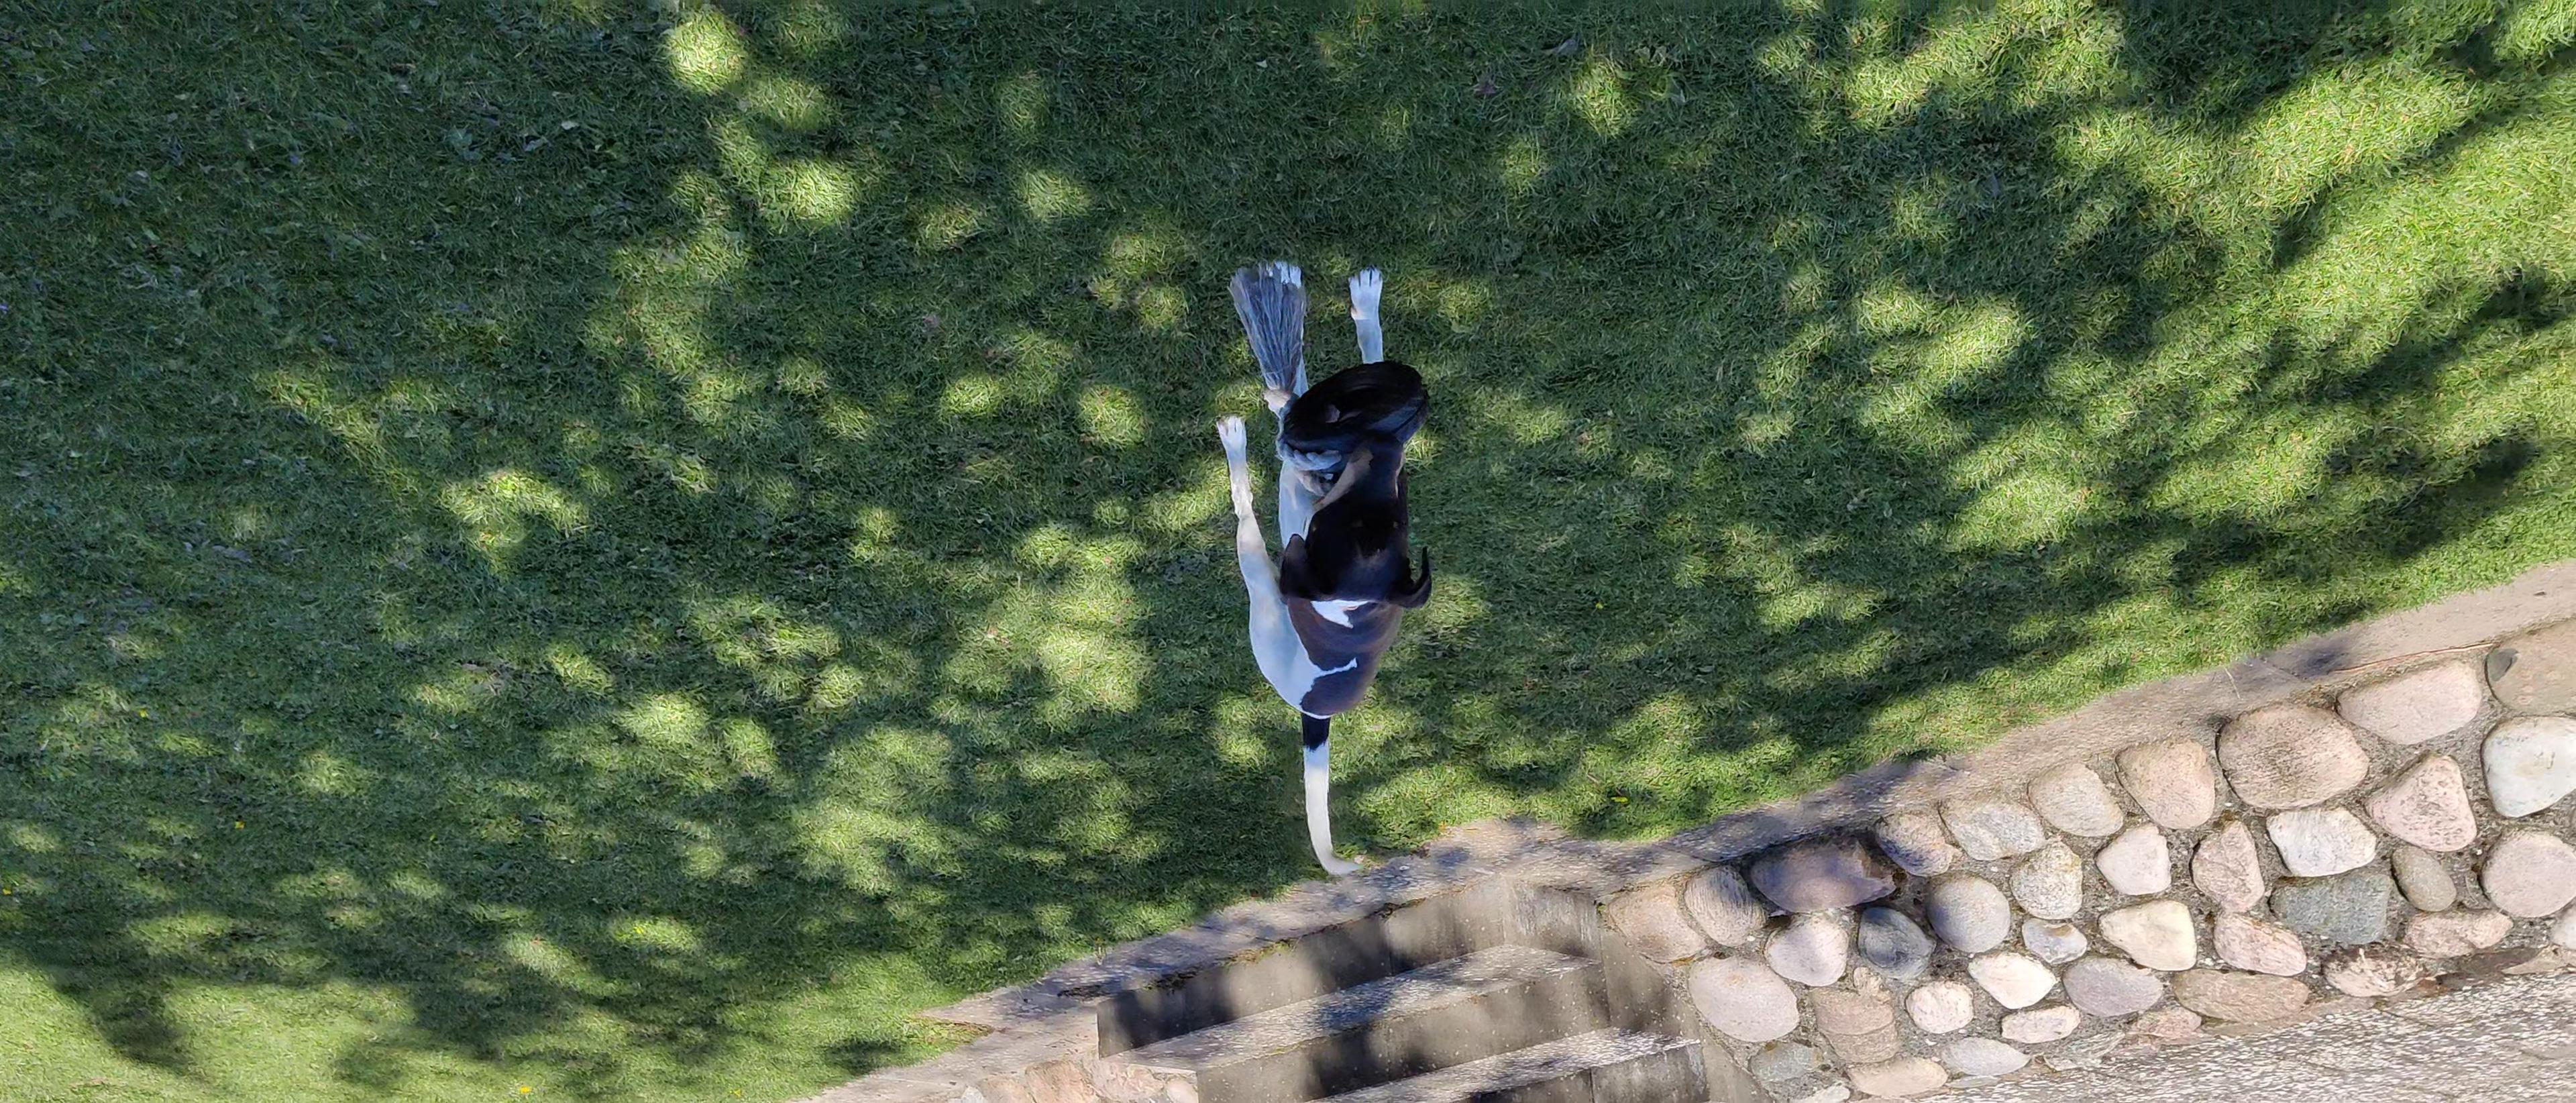Dog: (1207, 240, 1442, 888)
